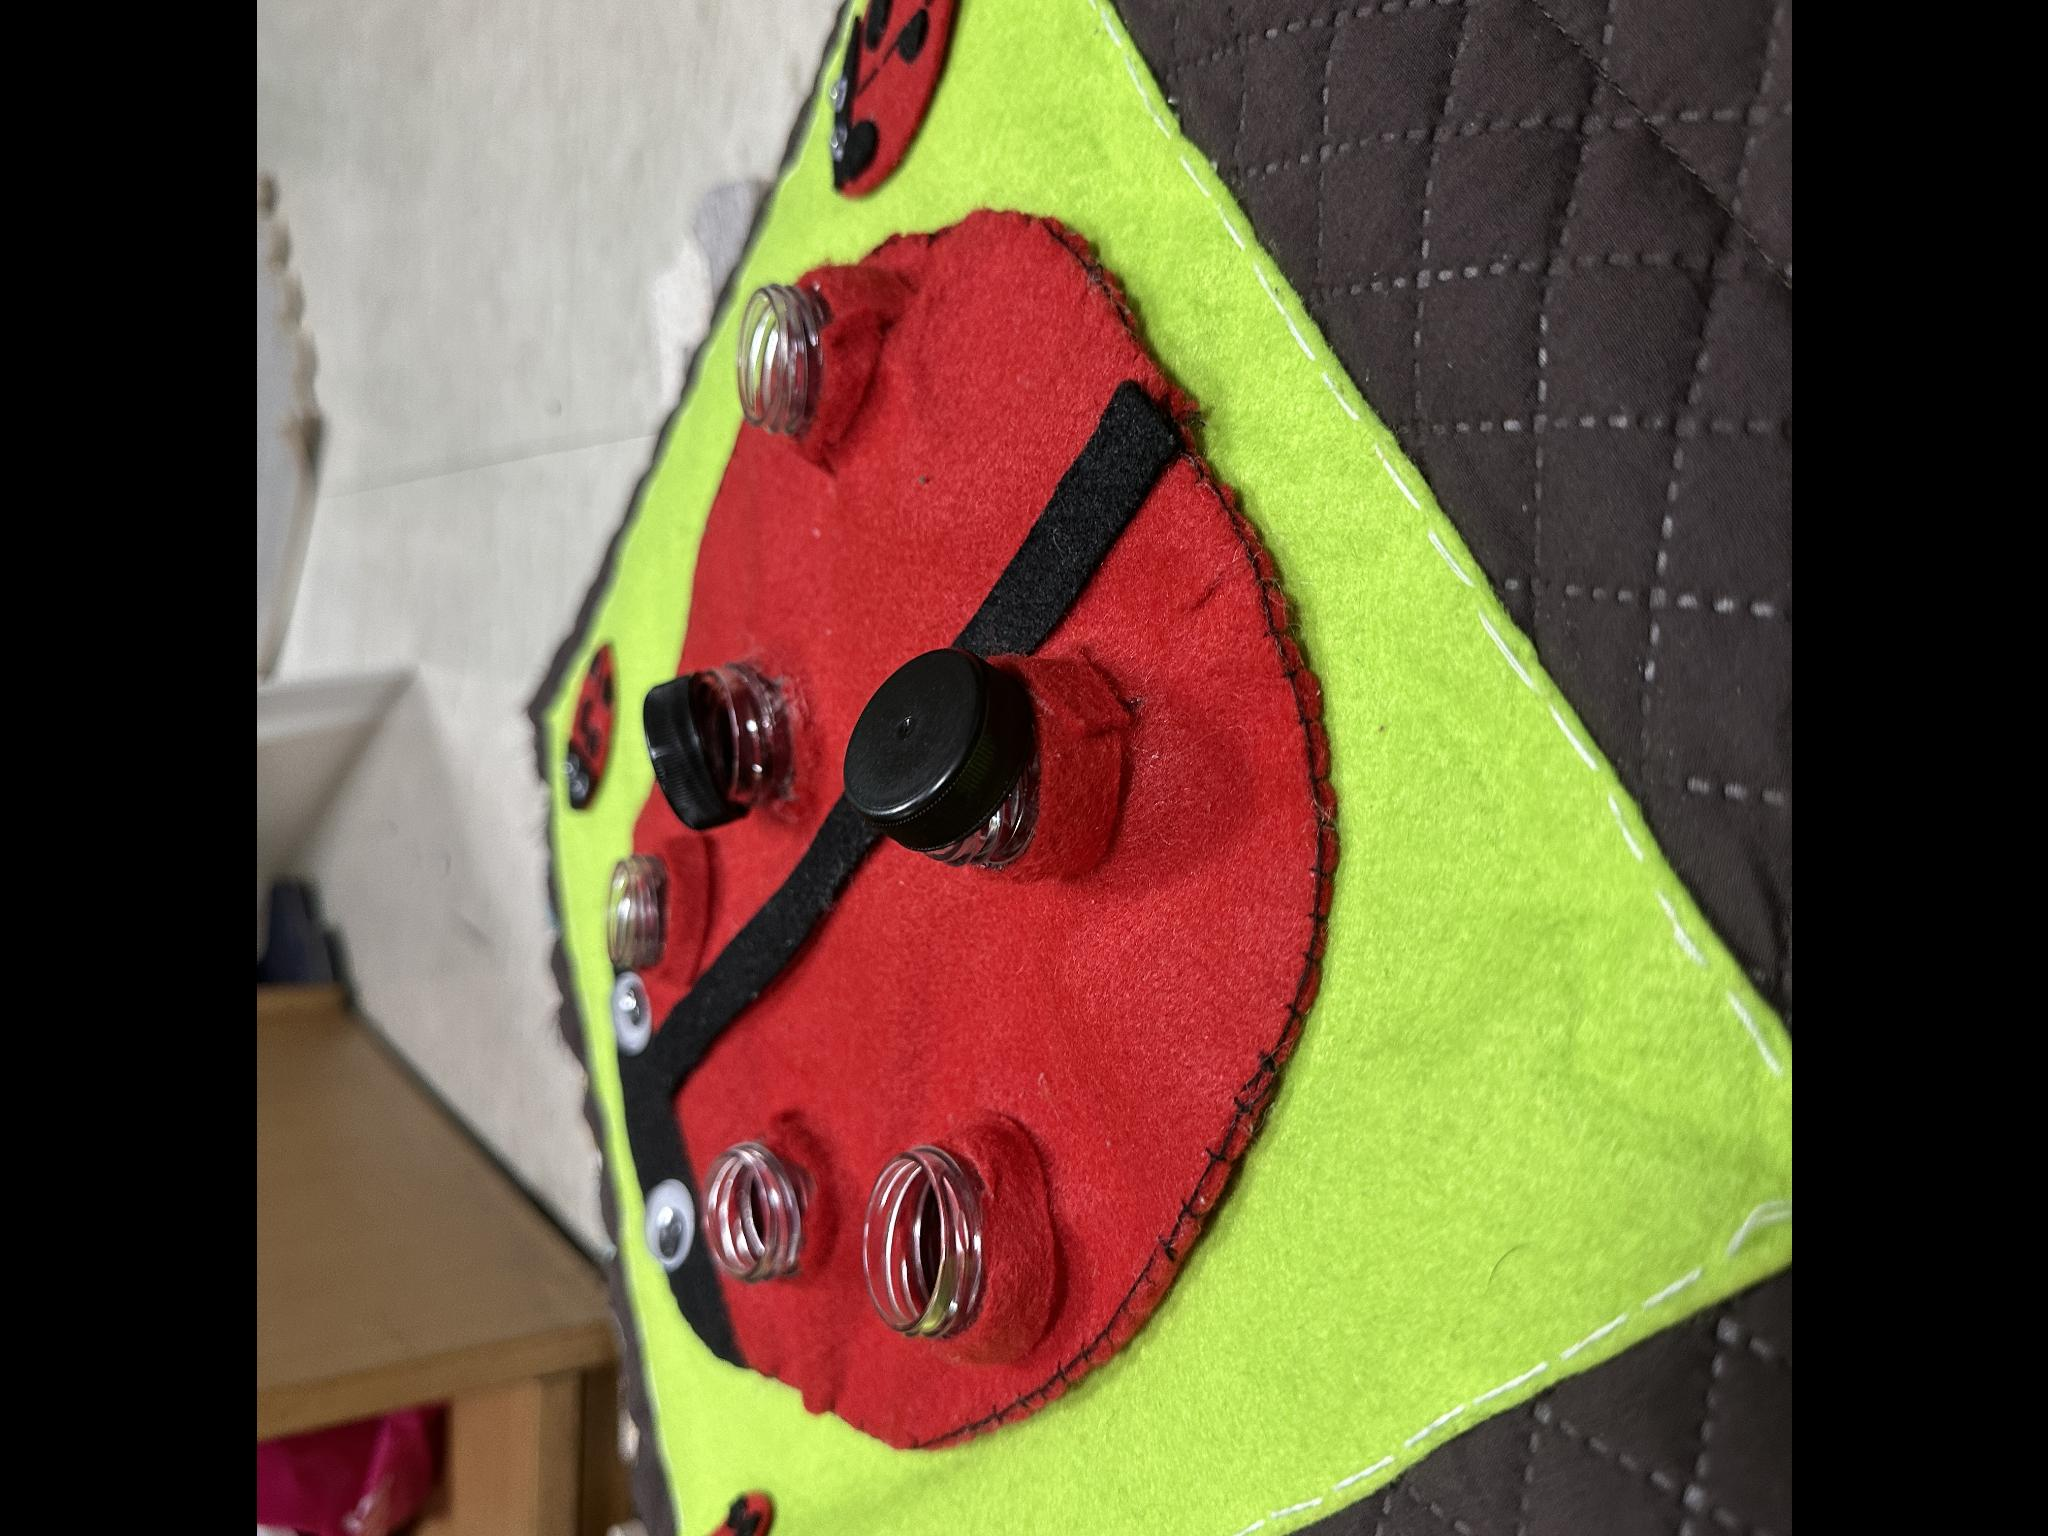cap_ng: (835, 624, 1143, 905), (627, 641, 822, 839)
